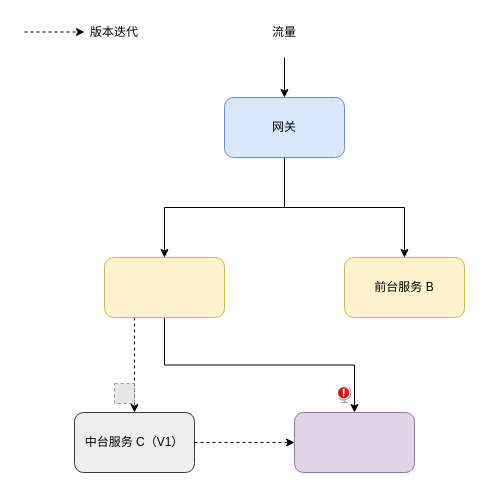
Some shapes in this 482 by 490 pixel diagram are drawn without their labels. Grey dashed boxes stand in for pictures. The shapes that lost their labels are listed below. From the top down, each one's centre as x and y in pixels, then its label:
At (164,287): "前台服务 A".
At (354,442): "中台服务 C（V2）".
